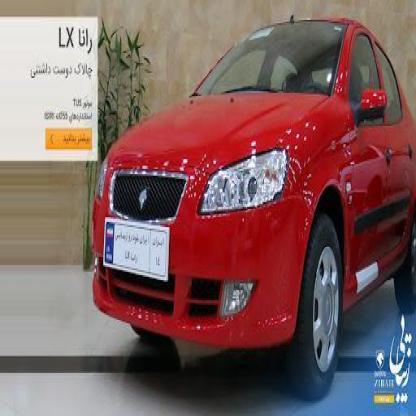Car: (87, 13, 416, 391)
